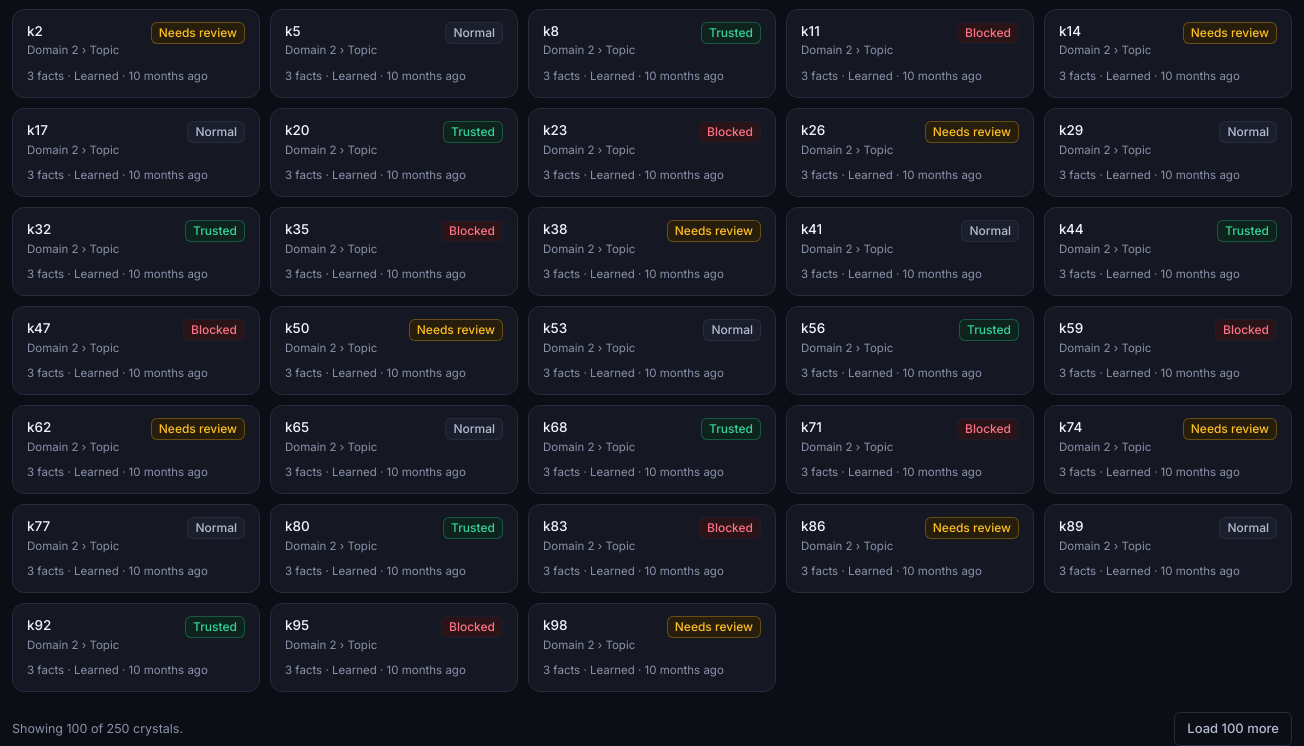
Test: Crystal Bank (Refine PR 4) › shows the whole-bank overview, pages at 100 and loads more
This screenshot has width=1304, height=746.
(page scrolled)
Expected: the text "Showing 100 of 250 crystals." is shown, [12, 720, 183, 738]
Click the button "Load 100 more" at coordinates (1233, 729), box [1174, 712, 1292, 745]
(page scrolled)
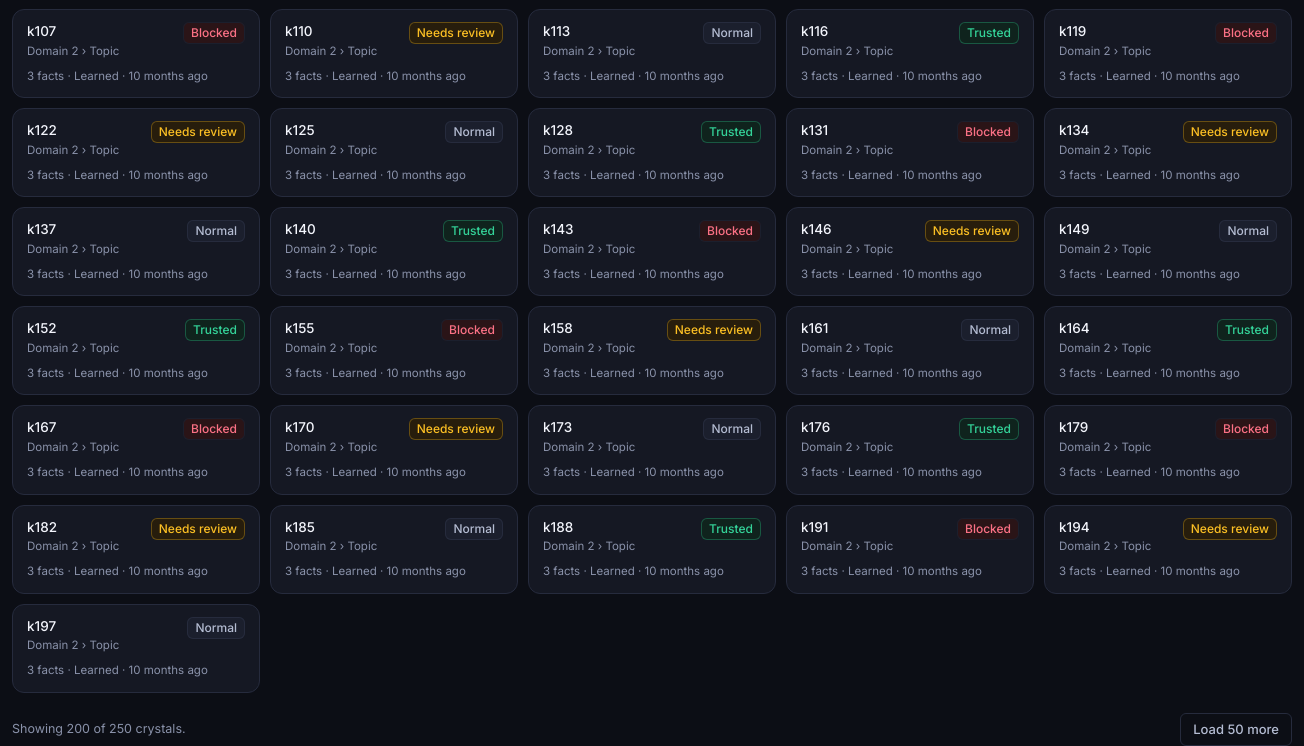
Now the text "Showing 200 of 250 crystals." is shown, box [12, 720, 186, 739]
